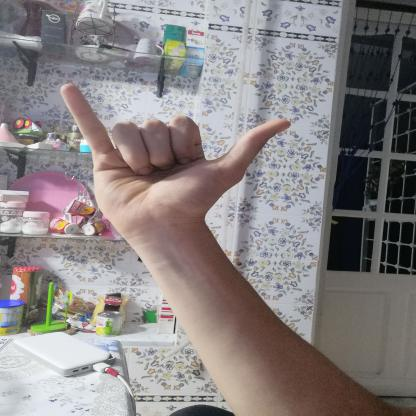YA: (44, 68, 309, 251)
